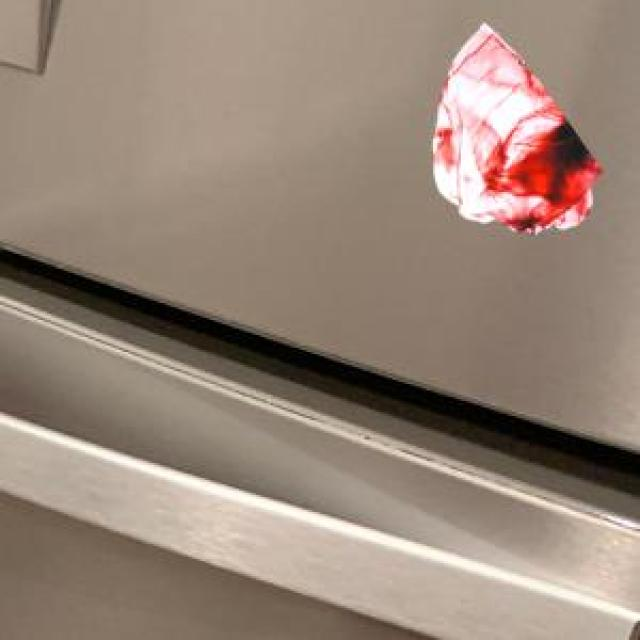plastic: (395, 21, 628, 272)
